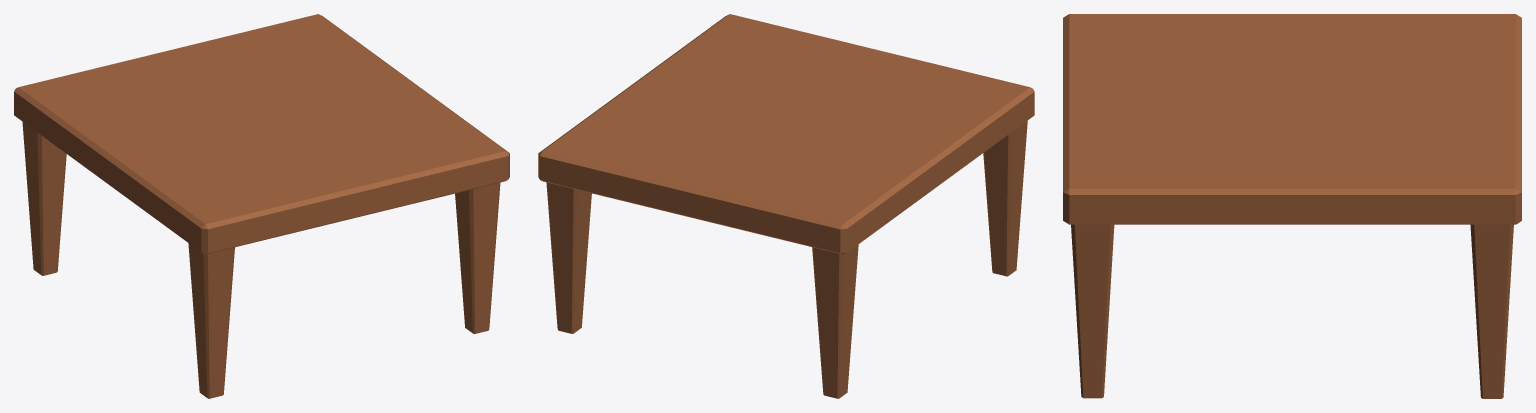
The model's file is Table B.glb.
3 renders of one model, left to right at view 1: azimuth 30°, elevation 25°; view 2: azimuth 150°, elevation 25°; view 3: azimuth 270°, elevation 25°, orthographic. The views are drawn at different scales.
Visible parts, largest first — view 1: Table B; view 2: Table B; view 3: Table B.
Part boxes in pixels (<box>): Table B: <box>14,14,509,398</box>; Table B: <box>538,14,1034,398</box>; Table B: <box>1063,14,1521,398</box>.
Size of the model in its own units: 0.6598 by 0.3704 by 0.7116.
